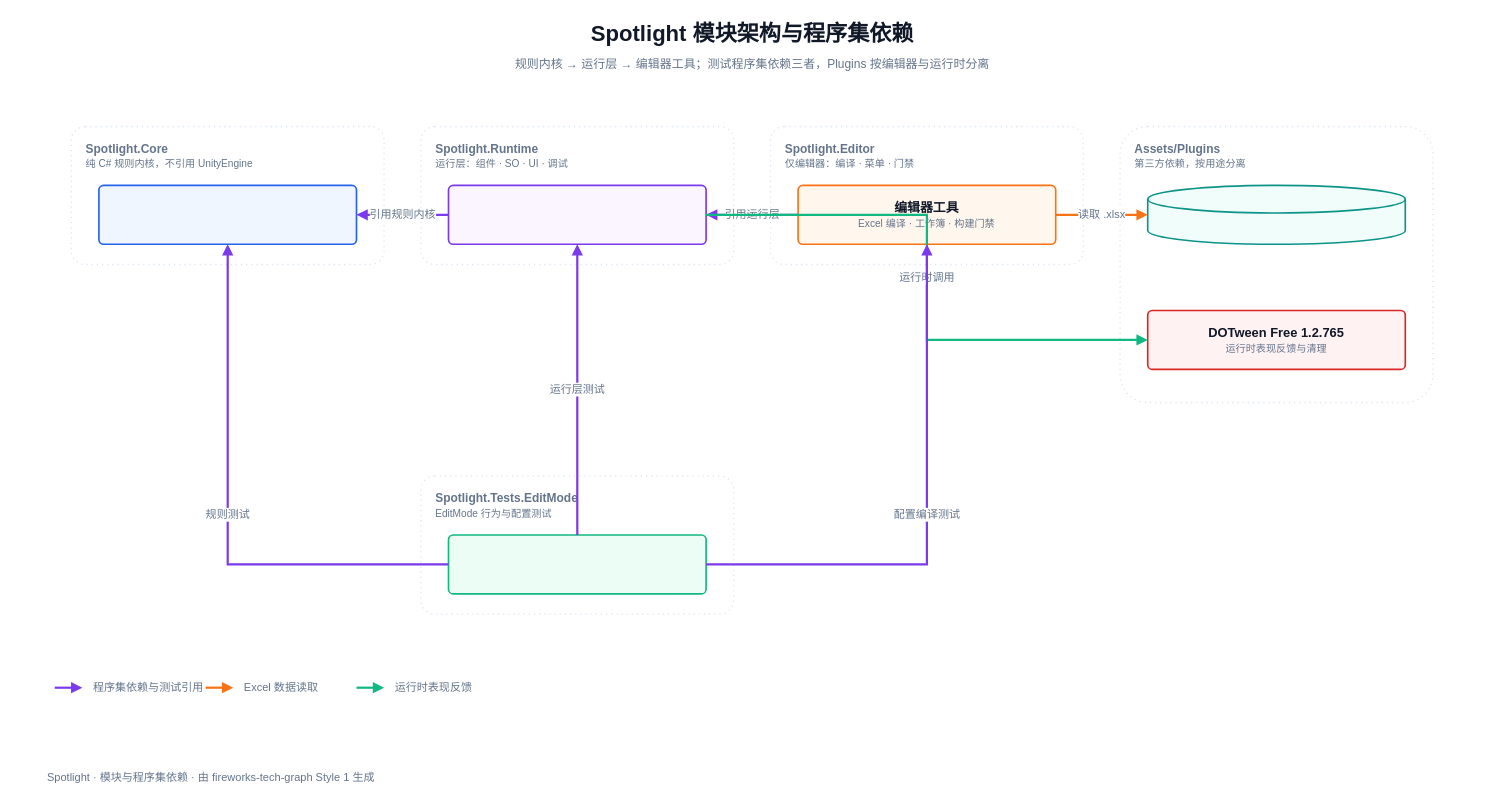
The diagram is 1503 pixels wide and 804 high, and some of its shapes have lost their labels. Each missing label, with the centre of its shape:
"EditMode 测试程序集 引用 Core / Runtime / Editor" goes at (576,564).
"ExcelDataReader 3.9.0 仅编辑器引用，不进正式包" goes at (1276,214).
"规则内核与配置契约 Configuration · DeckSelection" goes at (227,214).
"运行层与视图 Card · 组件 · UI（选卡） · 调试面板" goes at (576,214).
